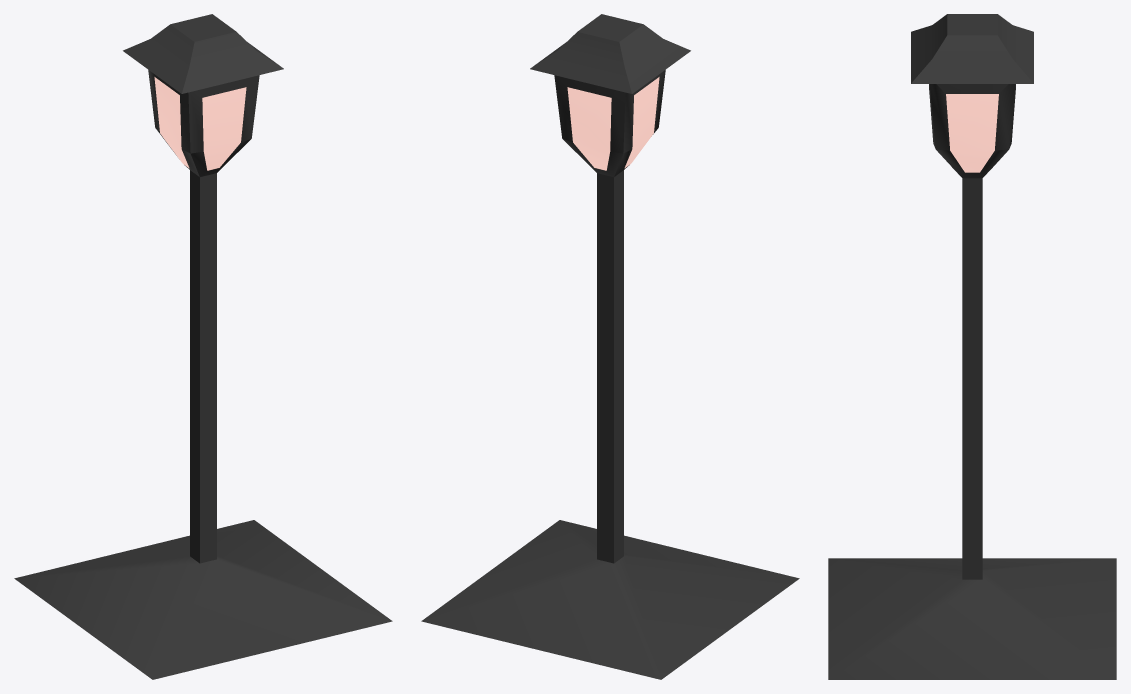
File: LampPost.glb
3 renders of one model, left to right at view 1: azimuth 30°, elevation 25°; view 2: azimuth 150°, elevation 25°; view 3: azimuth 270°, elevation 25°, orthographic. The views are drawn at different scales.
Parts seen in each view (by area): view 1: Cube; view 2: Cube; view 3: Cube.
Boxes of the visible parts, x1,y1,x2,y2 form: Cube: (14, 14, 392, 679); Cube: (421, 14, 799, 679); Cube: (828, 14, 1116, 679).
Bounding box in the file's own units: 1.69 × 3.84 × 1.69.
